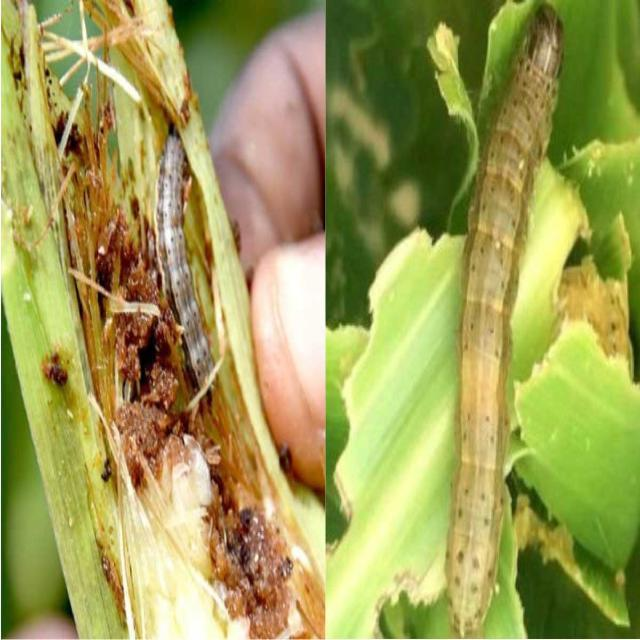army worm: (451, 5, 582, 613), (145, 98, 231, 396)
